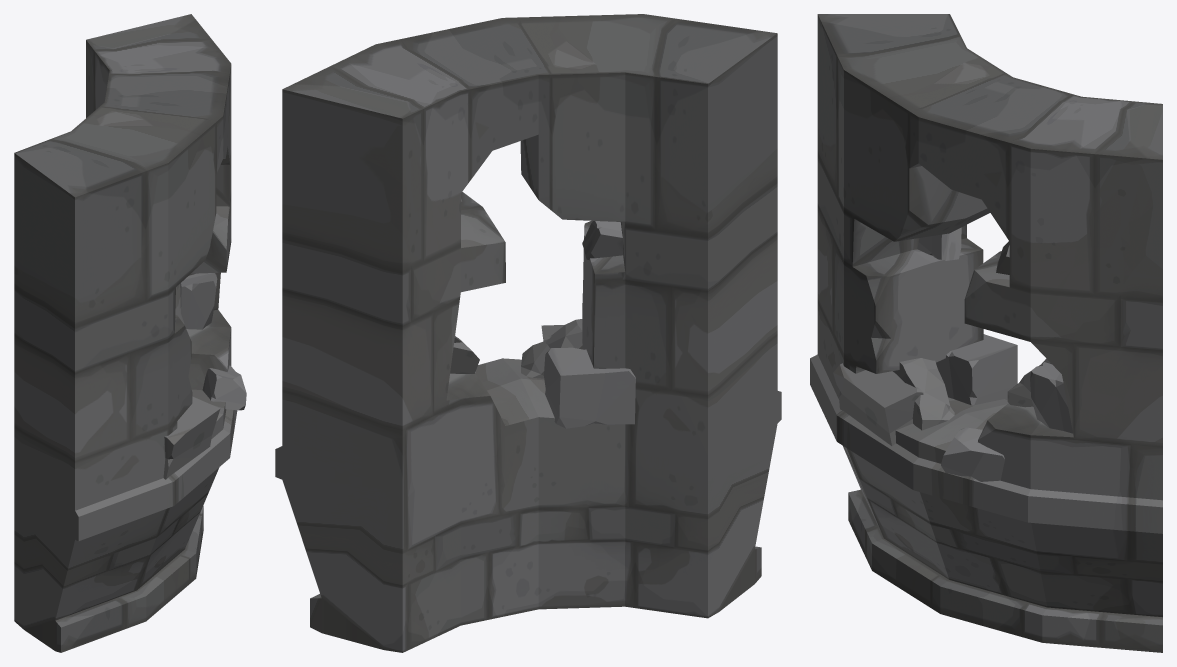
File: SM_Bld_Wall_L_Curve_Damaged_04.fbx
The picture shows the model from 3 angles, left to right: view 1: azimuth 30°, elevation 25°; view 2: azimuth 150°, elevation 25°; view 3: azimuth 270°, elevation 25°; orthographic projection. The views are drawn at different scales.
Parts seen in each view (by area): view 1: SM_Bld_Wall_L_Curve_Damaged_04; view 2: SM_Bld_Wall_L_Curve_Damaged_04; view 3: SM_Bld_Wall_L_Curve_Damaged_04.
Boxes of the visible parts, <box> form: SM_Bld_Wall_L_Curve_Damaged_04: <box>14,14,246,652</box>; SM_Bld_Wall_L_Curve_Damaged_04: <box>275,14,781,652</box>; SM_Bld_Wall_L_Curve_Damaged_04: <box>810,14,1162,652</box>.
Size of the model in its own units: 377 by 602 by 377.
